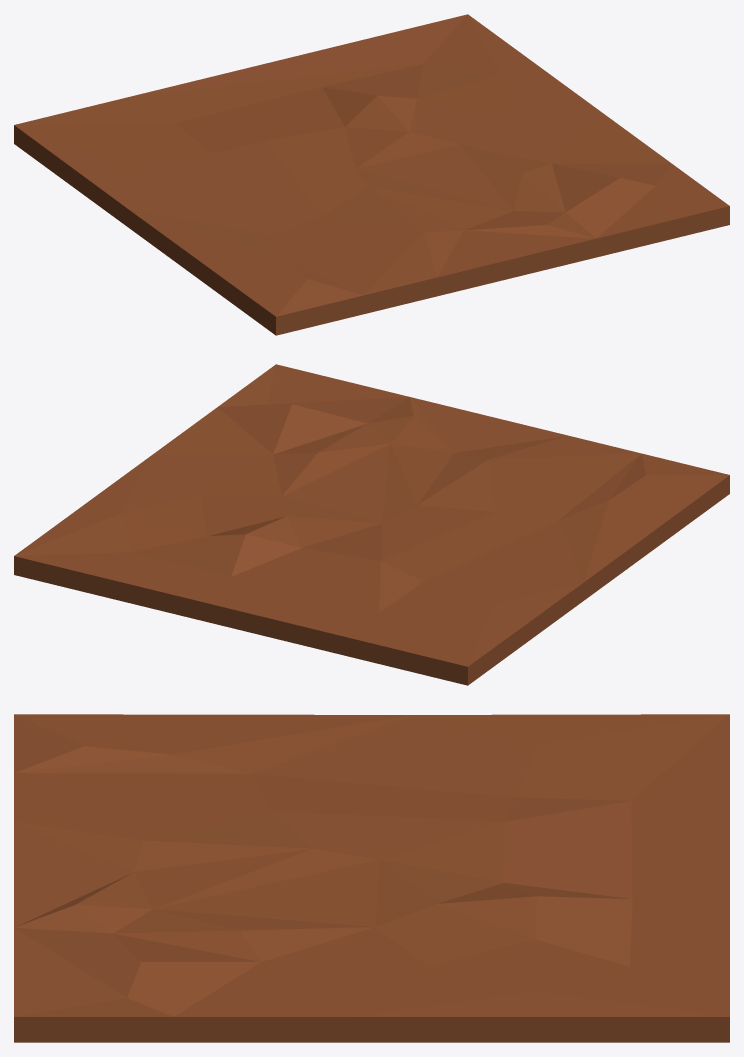
The model's file is Dirt.fbx.
3 renders of one model, top to bottom at view 1: azimuth 30°, elevation 25°; view 2: azimuth 150°, elevation 25°; view 3: azimuth 270°, elevation 25°, orthographic. The views are drawn at different scales.
Parts seen in each view (by area): view 1: Dirt; view 2: Dirt; view 3: Dirt.
Boxes of the visible parts, x1,y1,x2,y2 form: Dirt: [14, 14, 729, 335]; Dirt: [14, 364, 729, 685]; Dirt: [14, 714, 729, 1042].
Bounding box in the file's own units: 500 × 29.96 × 500.
